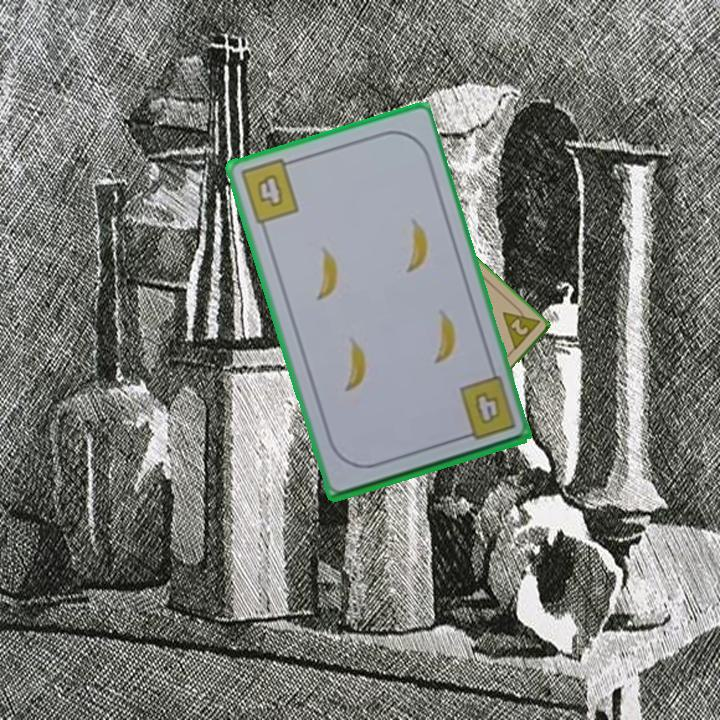2p: (498, 298, 542, 355)
4b: (236, 155, 302, 227), (455, 372, 519, 443)
